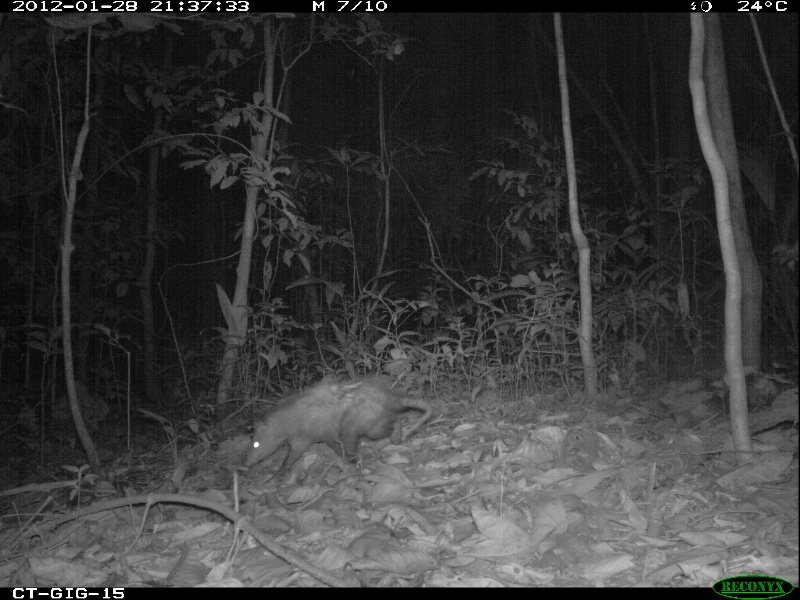opossum: (243, 378, 441, 481)
